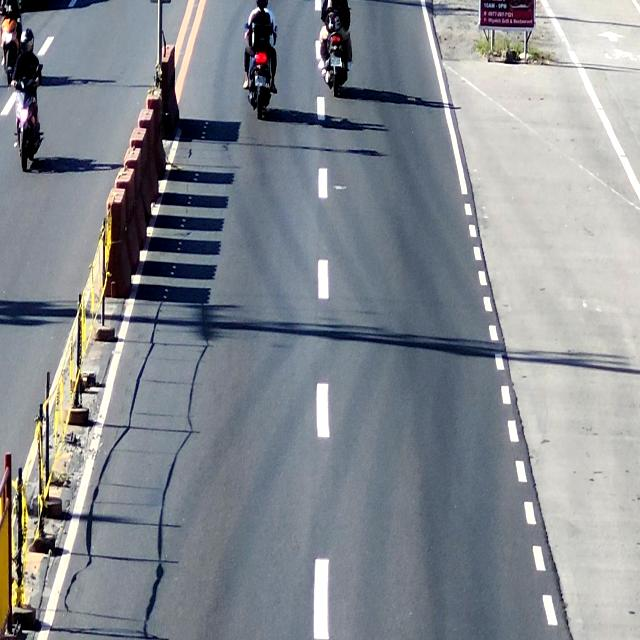License-Plate: (326, 54, 344, 70), (251, 72, 269, 86)
Motorcycle: (240, 0, 275, 122), (319, 0, 355, 101)
